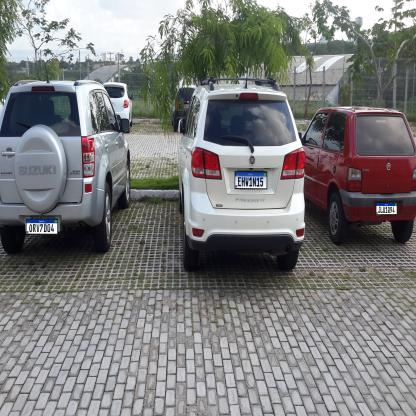PlacaM: (235, 171, 267, 189), (26, 218, 58, 235), (376, 203, 397, 214)
